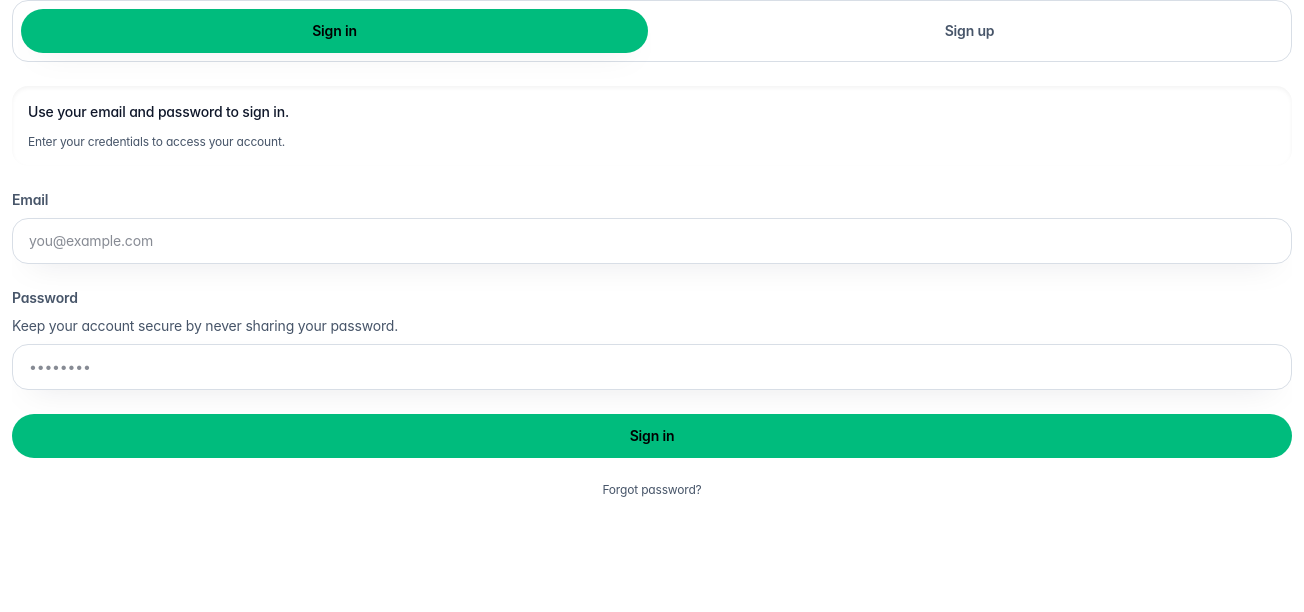
Test: LoginForm › switching to sign-up mode reveals the name field
The width and height of the screenshot is (1304, 612).
Expected: the field labelled "name" is not shown
Step 1. Click the button "Sign up" → [970, 31], box [656,9,1283,53]
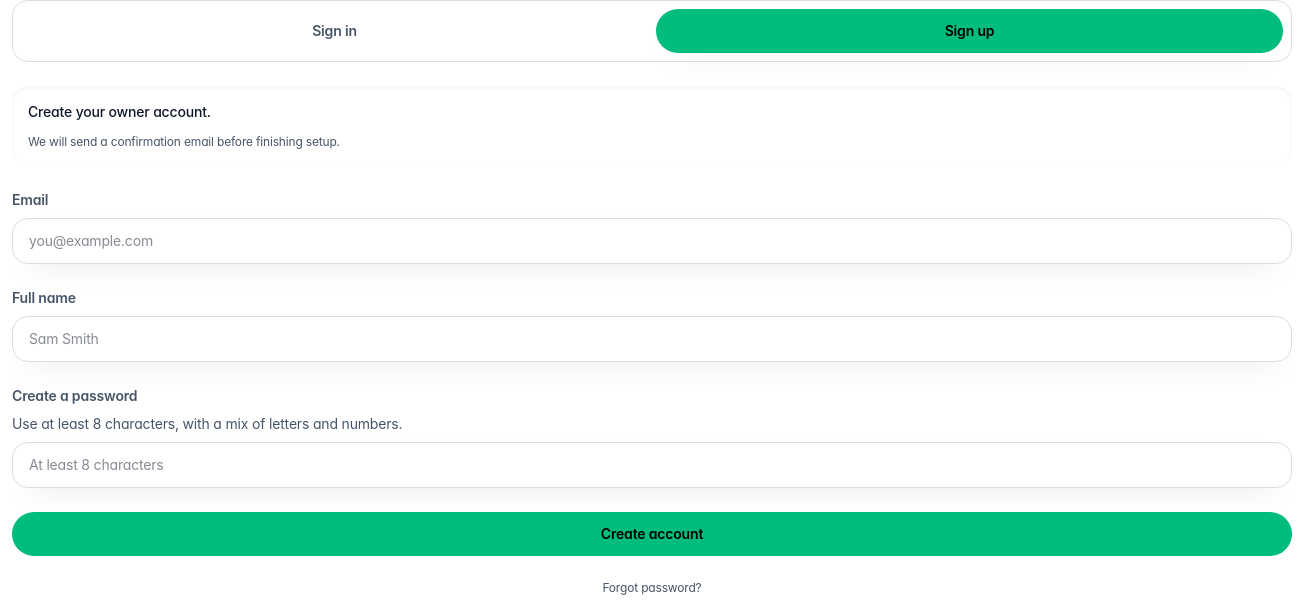
Result: the field labelled "Full name" is shown at [12,316,1292,362]
